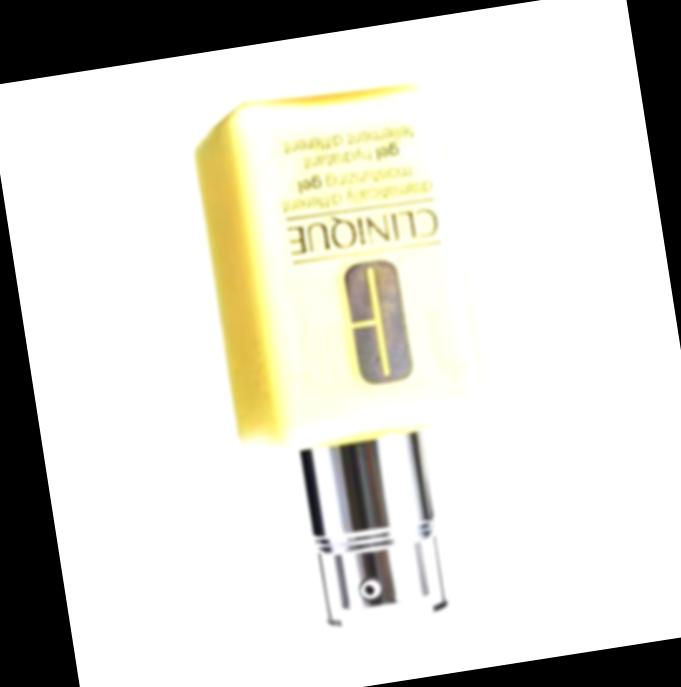cosmetic: (186, 77, 520, 645)
